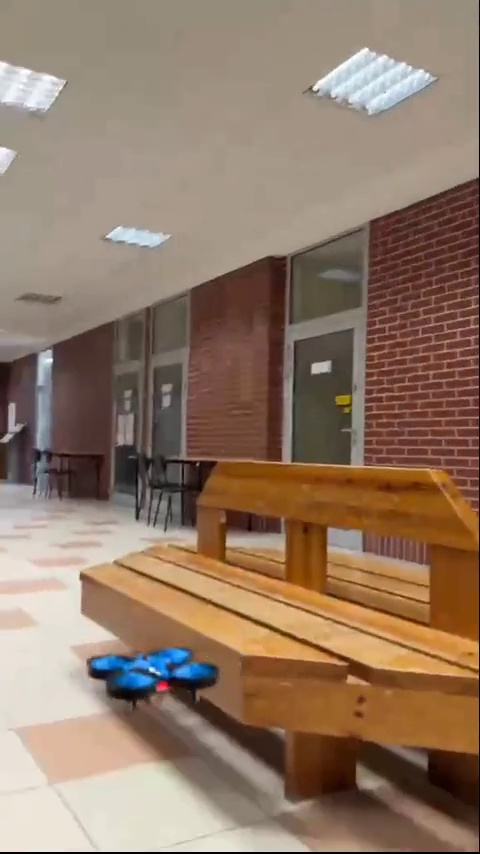drone: (90, 649, 212, 709)
